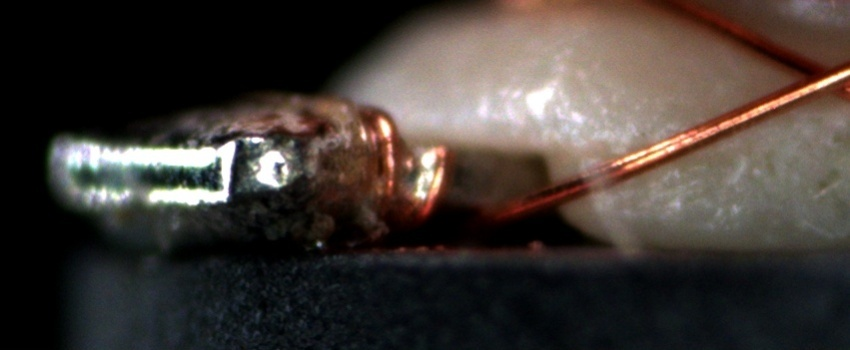CL: (774, 49, 847, 102)
DL: (601, 128, 762, 176)
TE: (339, 94, 456, 229)
